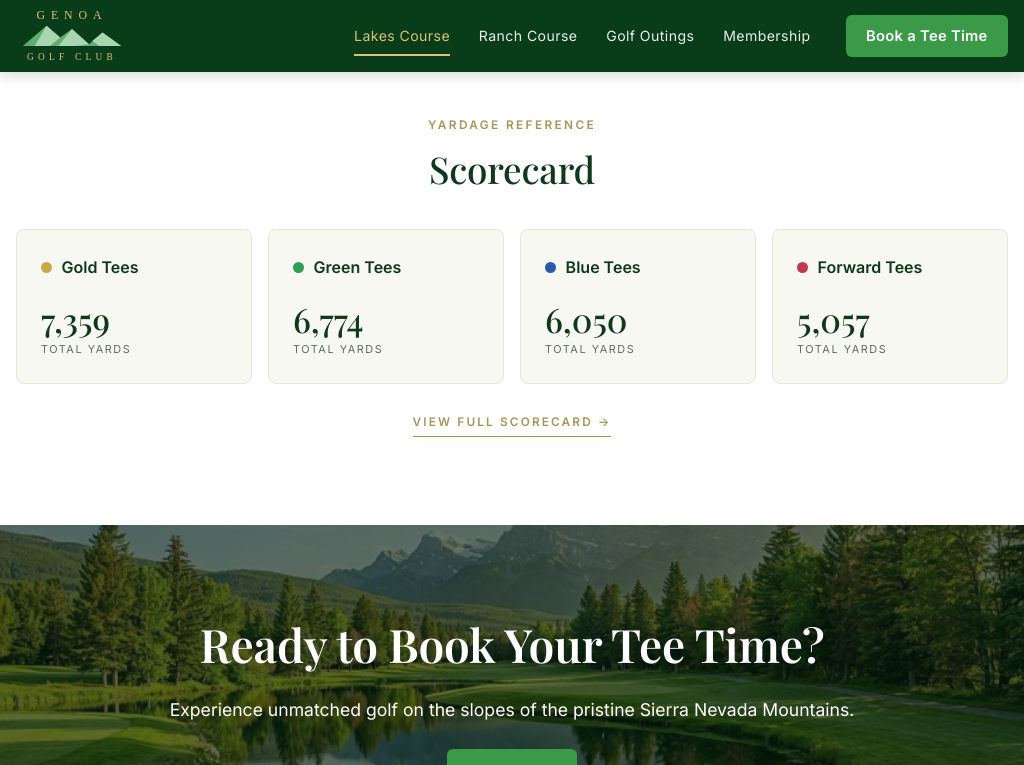
it: Lakes Course page › toggles the full scorecard
(page scrolled)
Click the button "View full scorecard →" at (512, 425), box [413, 413, 611, 437]
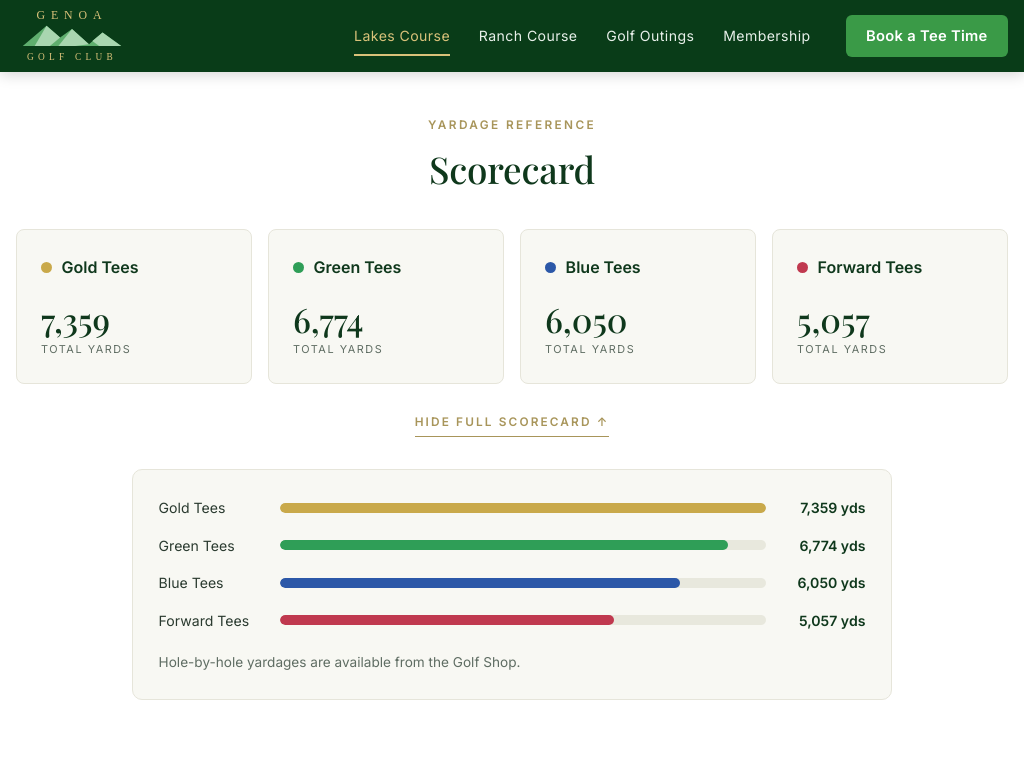
Check: the button "Hide full scorecard ↑" is expanded, box [415, 413, 609, 437]
